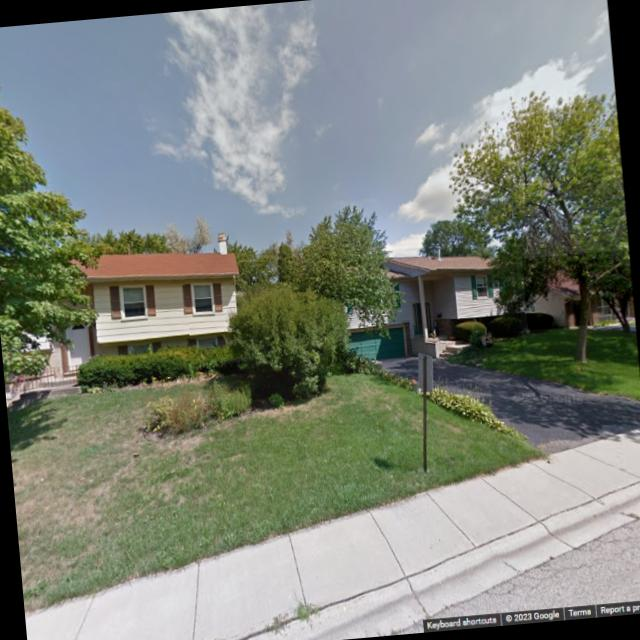House: (0, 230, 248, 407), (318, 239, 524, 367), (522, 249, 636, 330)
